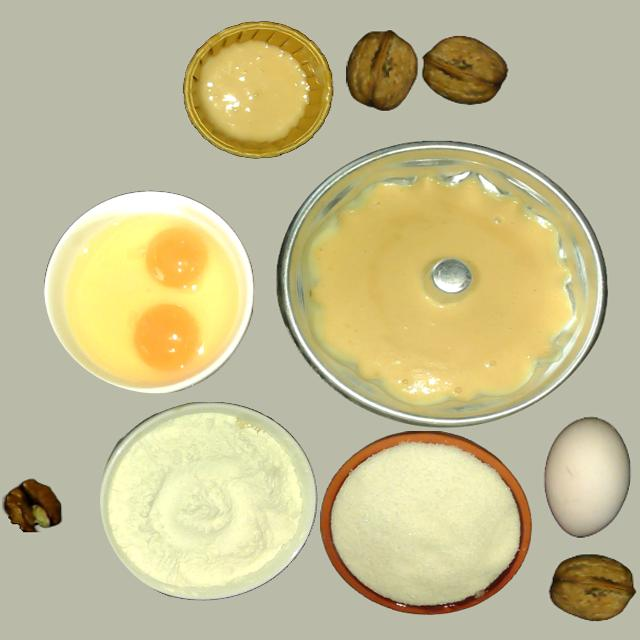Egg: (133, 304, 200, 370), (145, 226, 209, 290)
Flour: (99, 400, 313, 600)
Sugar: (318, 430, 529, 614)
Walnut: (421, 36, 508, 104), (548, 554, 634, 621), (345, 31, 416, 111)
